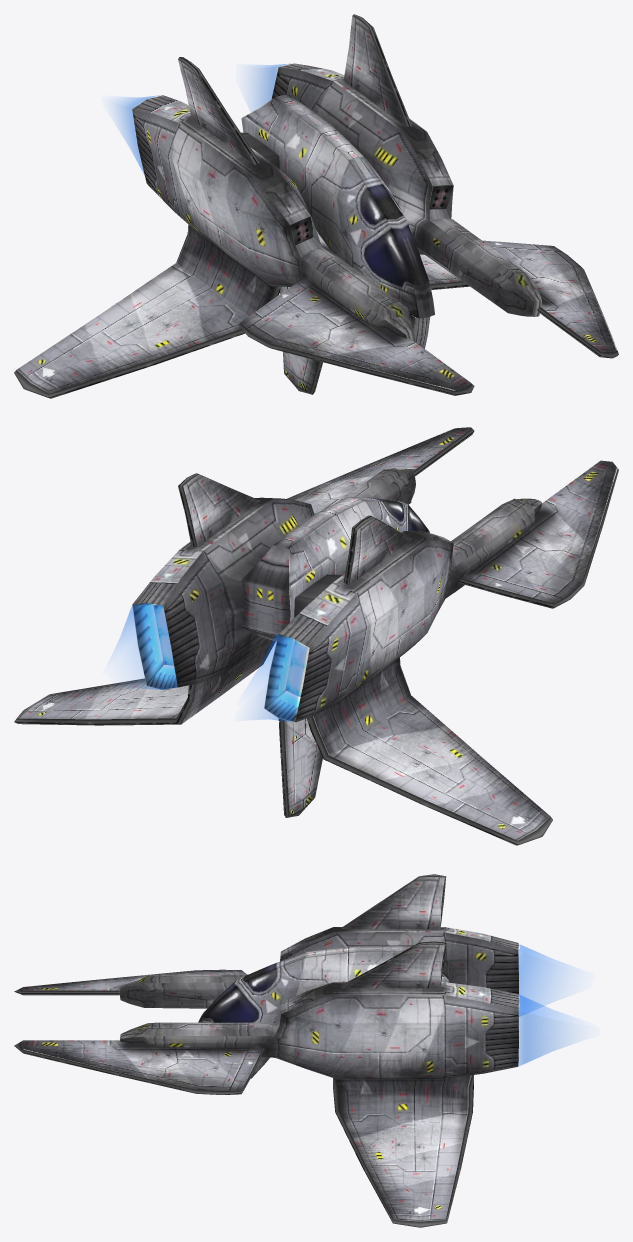
File: lancelot.gltf
3 views of the same model, one above another, from view 1: azimuth 30°, elevation 25°; view 2: azimuth 150°, elevation 25°; view 3: azimuth 270°, elevation 25° (orthographic). The views are drawn at different scales.
Parts seen in each view (by area): view 1: base_glow, glow; view 2: base_glow, glow; view 3: base_glow, glow.
Part boxes in pixels (x1,y1,x2,y2): base_glow: (14, 14, 618, 398); glow: (114, 64, 287, 174); base_glow: (14, 427, 618, 845); glow: (114, 603, 307, 721); base_glow: (14, 874, 518, 1227); glow: (518, 944, 570, 1065).
Size of the model in its own units: 25.61 by 15.77 by 32.91.
2 materials, 2 textured.
